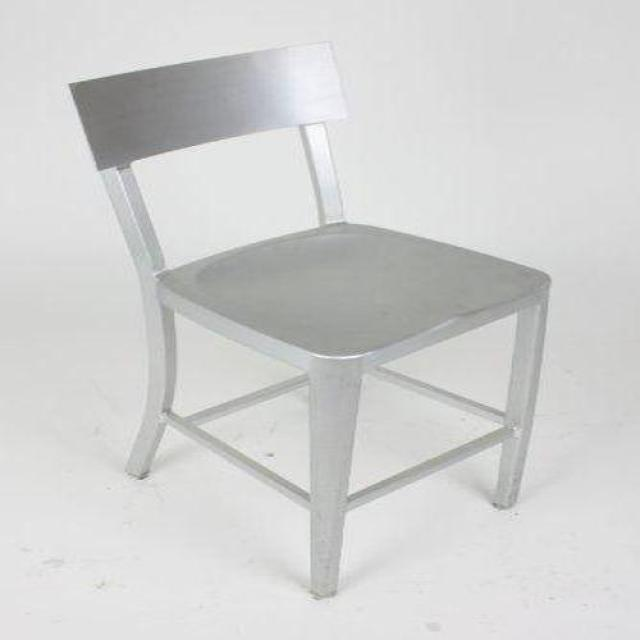chair: (70, 45, 553, 600)
